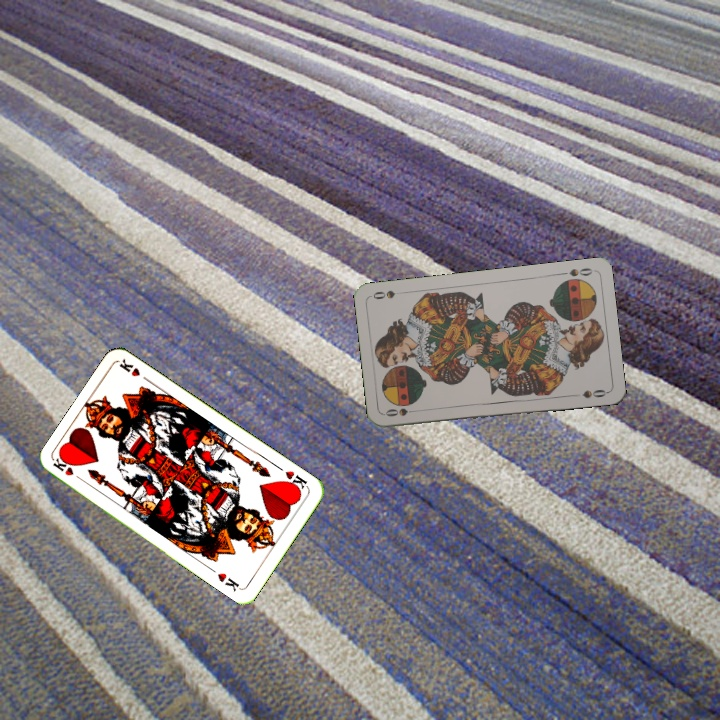HK: (49, 454, 87, 485), (281, 466, 311, 494)
SO: (381, 404, 422, 419), (556, 264, 595, 279)
